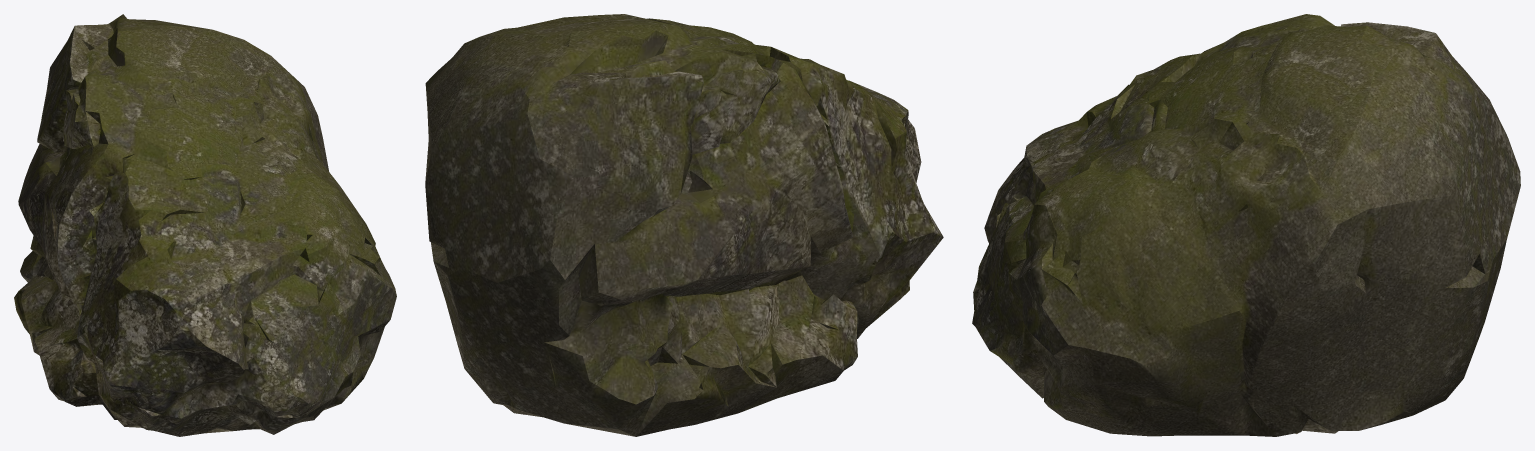
The model's file is rock_mossy.glb.
The picture shows the model from 3 angles, left to right: view 1: azimuth 30°, elevation 25°; view 2: azimuth 150°, elevation 25°; view 3: azimuth 270°, elevation 25°; orthographic projection. The views are drawn at different scales.
Parts seen in each view (by area): view 1: rock_mossy; view 2: rock_mossy; view 3: rock_mossy.
Boxes of the visible parts, x1=… form: rock_mossy: x1=14, y1=14, x2=396, y2=436; rock_mossy: x1=425, y1=14, x2=943, y2=436; rock_mossy: x1=972, y1=14, x2=1520, y2=436.
Size of the model in its own units: 1.45 by 1.31 by 1.9.
1 material, 1 textured.
